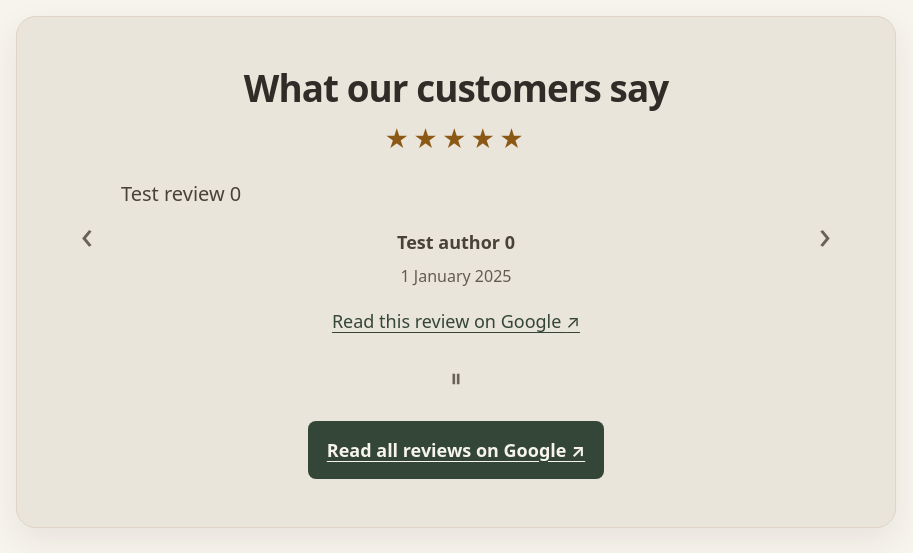
Test case: resume advances while rotation button retains keyboard focus
The width and height of the screenshot is (913, 553).
Focus the button named "Next review" at (825, 234), box [803,212,847,256]
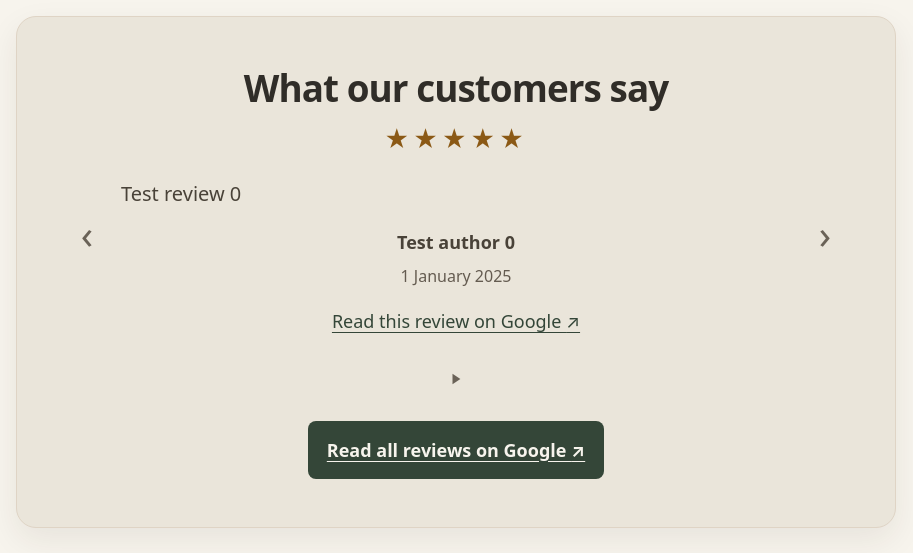
Click the button named "Next review" at (825, 234), box [803,212,847,256]
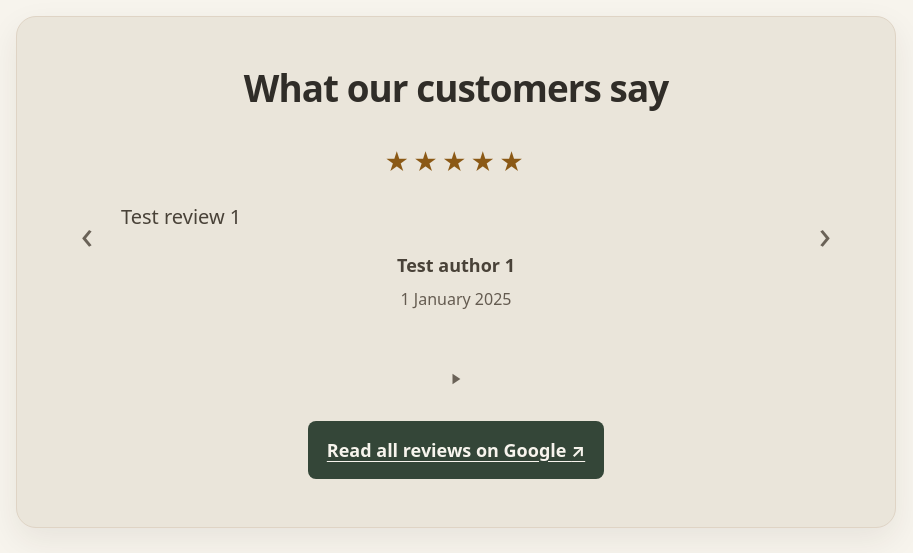
Click the button named "Resume rotation" at (456, 379), box [434,357,478,401]
Wait 6000 ms
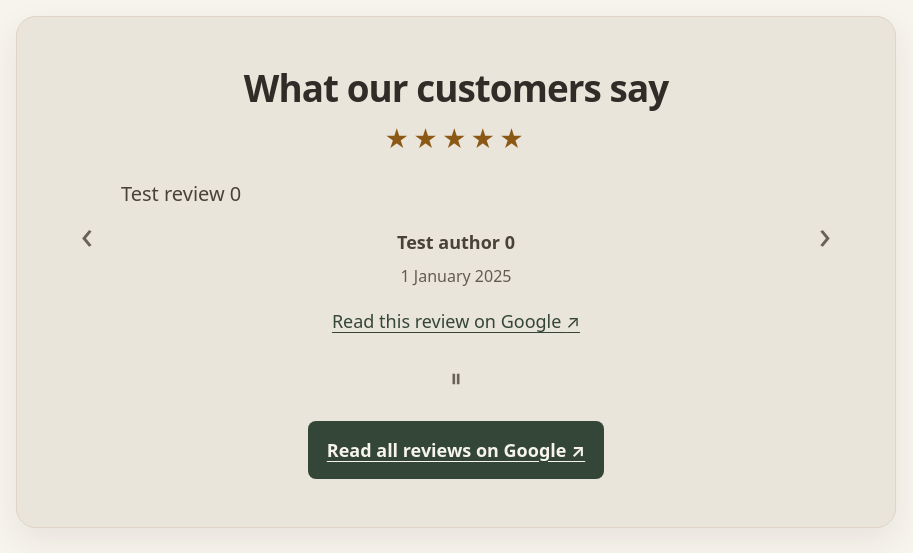
Expected: the text "Test review 0" is shown, [121,180,241,207]
